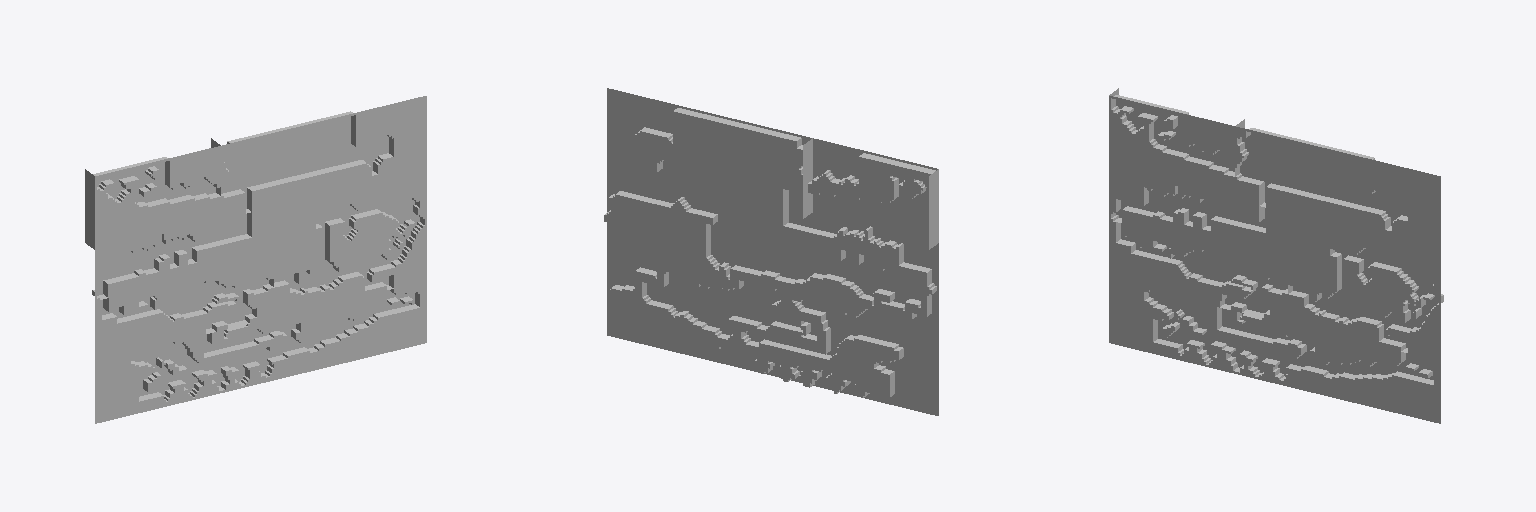
The model's file is ChinaMountainUVd.obj.
The picture shows the model from 3 angles: view 1: azimuth 30°, elevation 25°; view 2: azimuth 150°, elevation 25°; view 3: azimuth 330°, elevation 25°; orthographic projection.
Visible parts, largest first — view 1: ChinaMountainUVd; view 2: ChinaMountainUVd; view 3: ChinaMountainUVd.
Part boxes in pixels (left/top/right/bottom): ChinaMountainUVd: left=85, top=96, right=426, bottom=423; ChinaMountainUVd: left=604, top=88, right=938, bottom=415; ChinaMountainUVd: left=1109, top=88, right=1443, bottom=423.
Bounding box in the file's own units: 150 × 107 × 8.